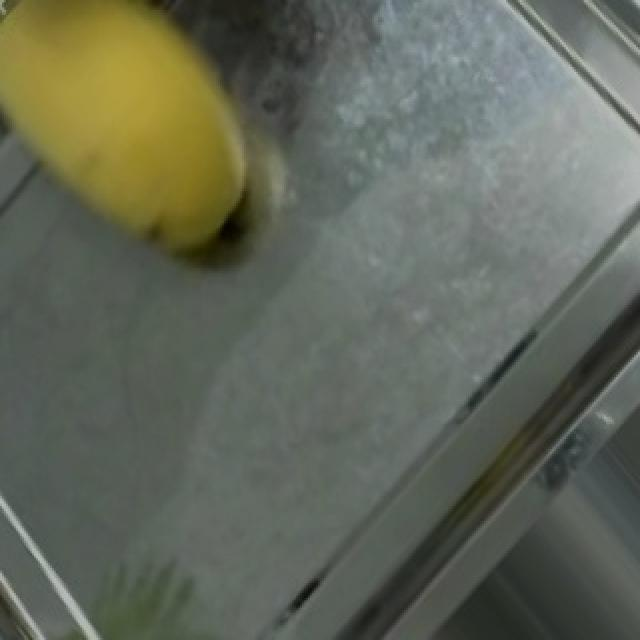fruit: (2, 2, 314, 290)
